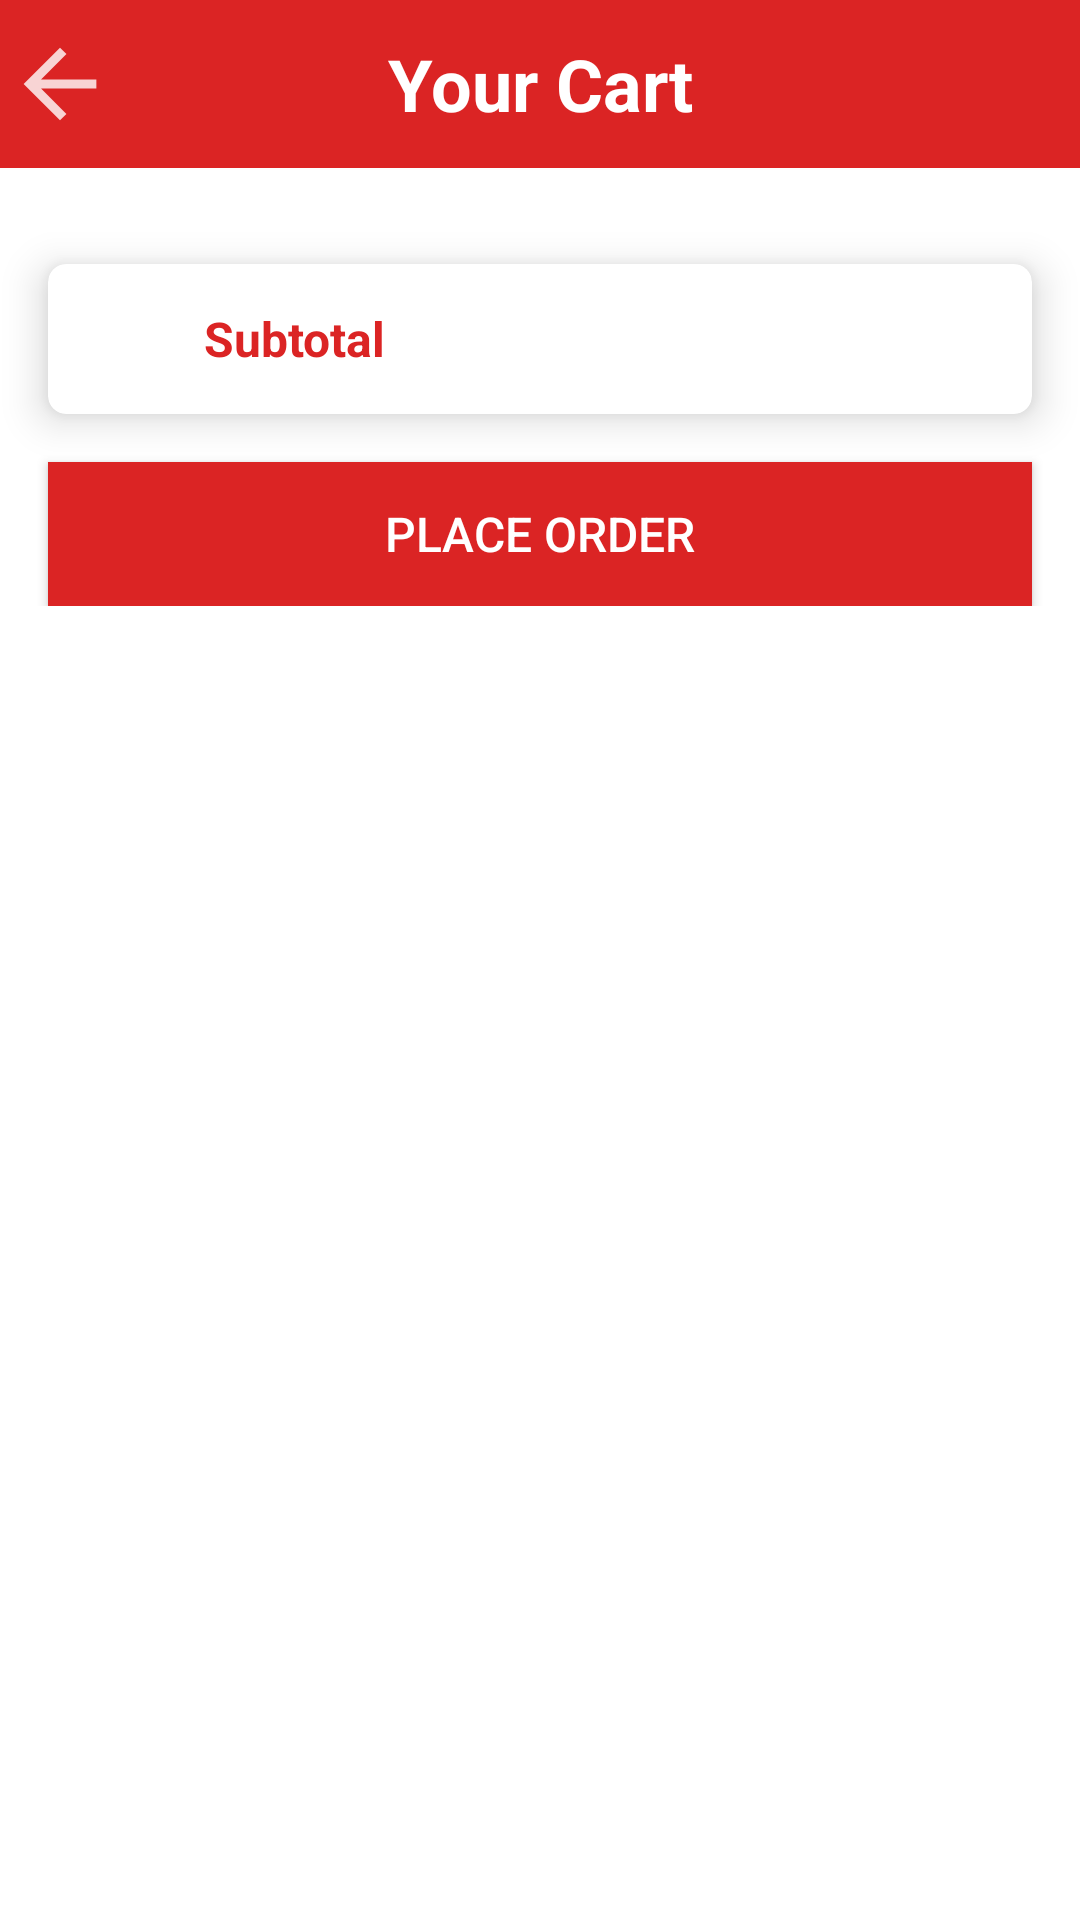

Named icons in this screenshot (1080px×1920px) and their bounding boxes, BBox(x1, y1, x2, y2):
Back Button Image: BBox(24, 48, 97, 120)
